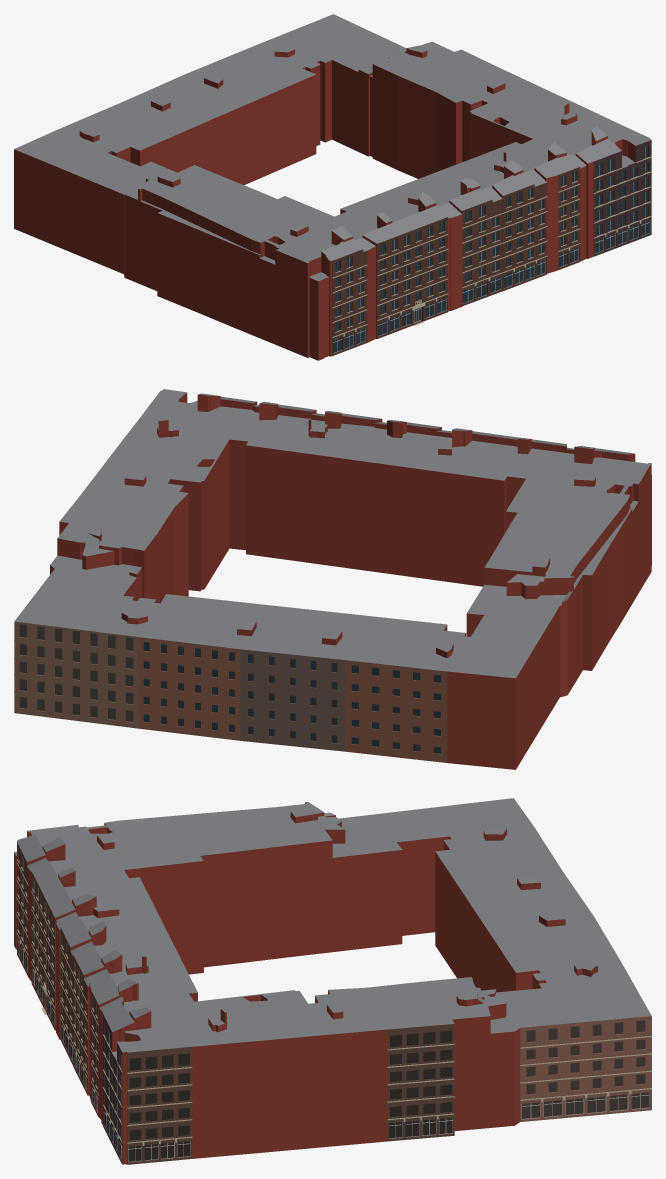
The model's file is recipe-large-oba-olympisch-kwartier.glb.
3 renders of one model, top to bottom at view 1: azimuth 30°, elevation 25°; view 2: azimuth 150°, elevation 25°; view 3: azimuth 270°, elevation 25°, orthographic. The views are drawn at different scales.
Parts seen in each view (by area): view 1: oba-olympisch-kwartier; view 2: oba-olympisch-kwartier; view 3: oba-olympisch-kwartier.
Part boxes in pixels (x1,y1,x2,y2): oba-olympisch-kwartier: [14, 14, 651, 360]; oba-olympisch-kwartier: [14, 389, 651, 769]; oba-olympisch-kwartier: [14, 798, 651, 1164].
Size of the model in its own units: 99.21 by 22 by 98.05.
